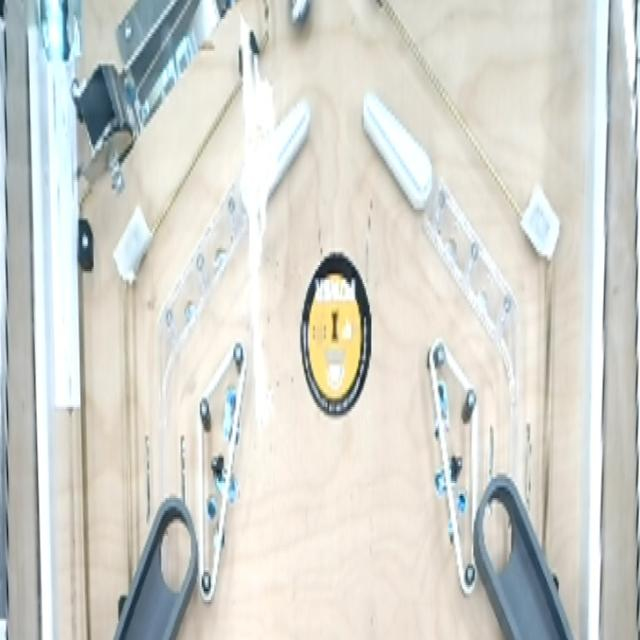ball: (285, 0, 315, 47)
flipper-left: (359, 87, 438, 239)
flipper-right: (239, 88, 313, 237)
